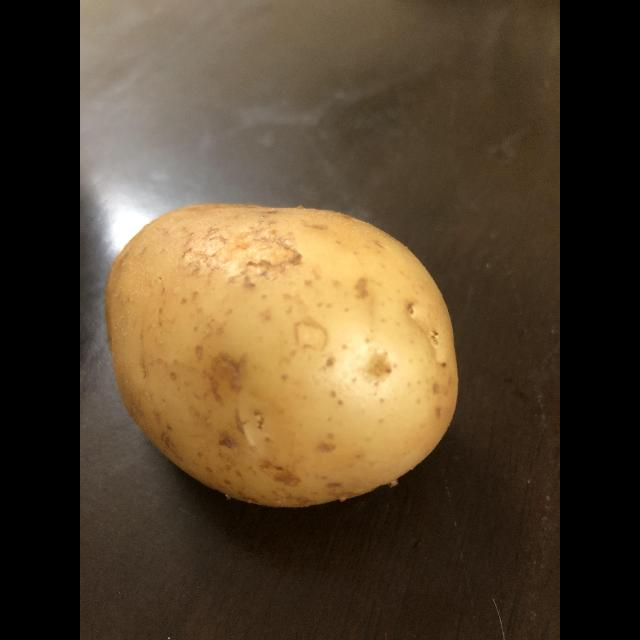Potato: (106, 200, 464, 502)
